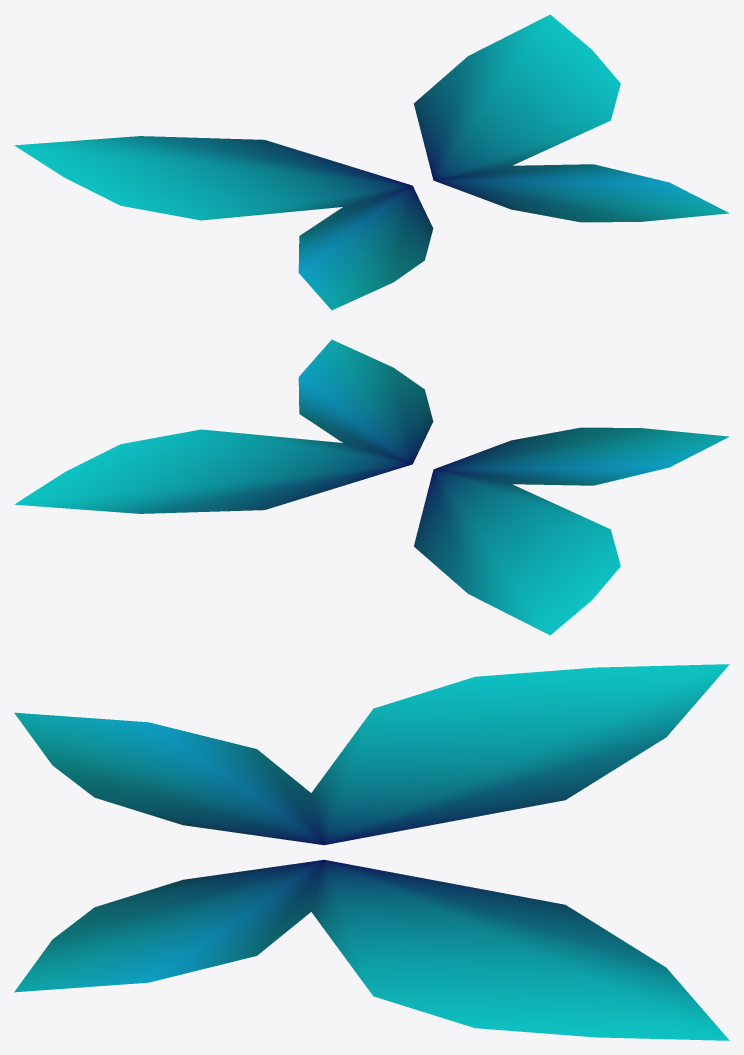
The model's file is Butterfly.fbx.
The picture shows the model from 3 angles, top to bottom: view 1: azimuth 30°, elevation 25°; view 2: azimuth 150°, elevation 25°; view 3: azimuth 270°, elevation 25°; orthographic projection. The views are drawn at different scales.
Parts seen in each view (by area): view 1: EffectButterfly; view 2: EffectButterfly; view 3: EffectButterfly.
Boxes of the visible parts, x1,y1,x2,y2 form: EffectButterfly: (14, 14, 729, 310); EffectButterfly: (14, 339, 729, 635); EffectButterfly: (14, 664, 729, 1040).
Bounding box in the file's own units: 2.62 × 2.88e-16 × 2.1.
